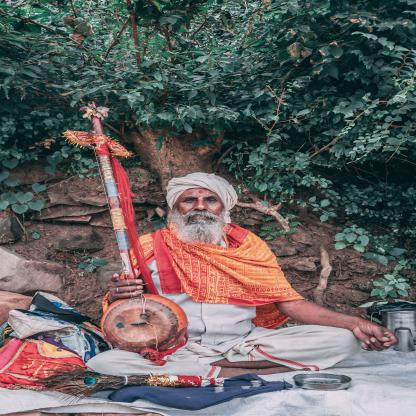Eye: (182, 199, 196, 203), (205, 198, 218, 202)
Mouth: (190, 214, 210, 219)
Nose: (194, 200, 208, 210)
